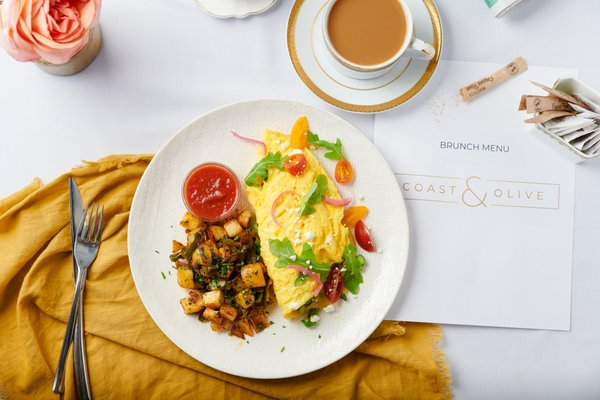pizza: (0, 0, 104, 76), (320, 0, 415, 72)
